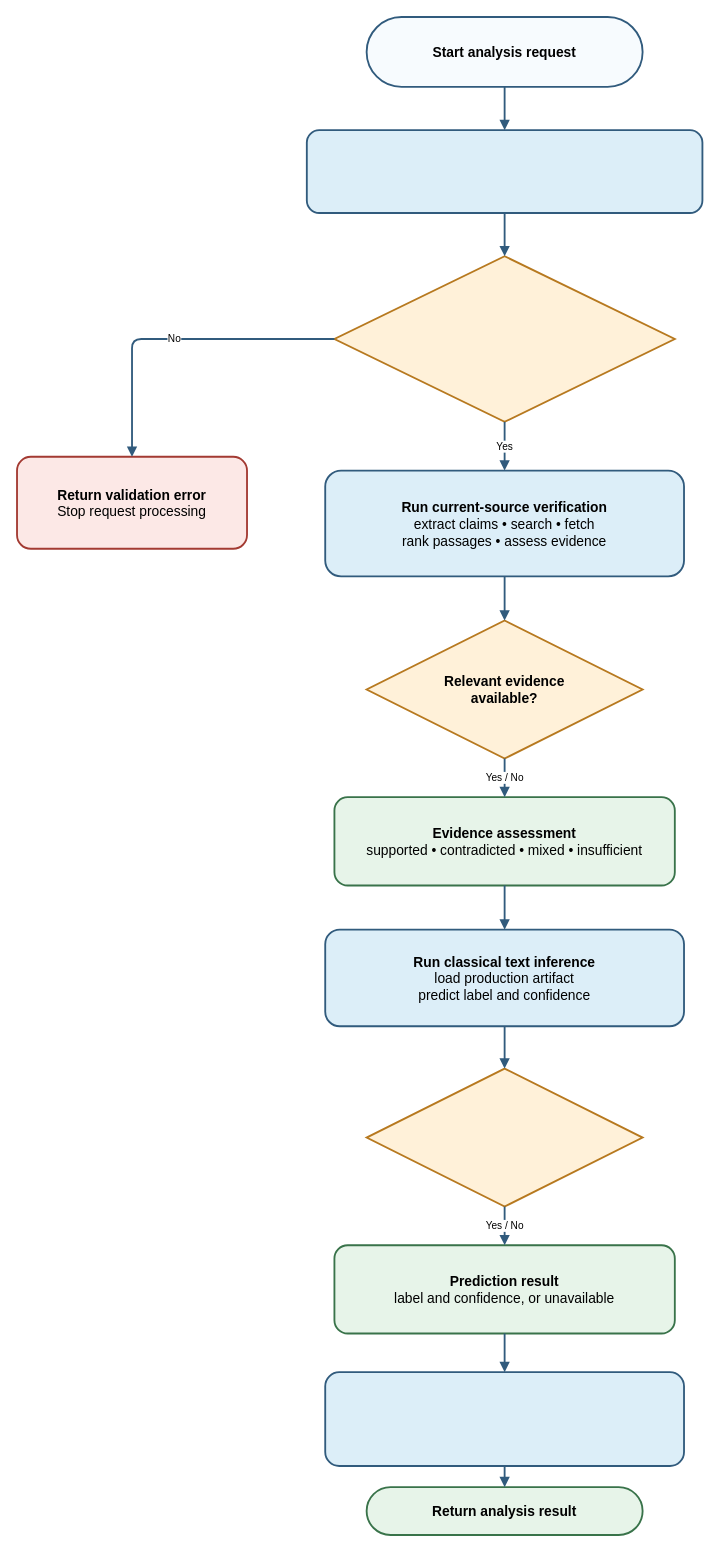
Image size: 719x1551. Some labels were removed from this diagram. Each missing label, with the centre of its shape:
"Assemble structured response prediction + claims + evidence + sources" belongs at point 504,1418.
"Input satisfies type and length constraints?" belongs at point 504,338.
"Model artifact available?" belongs at point 504,1137.
"Receive submitted article text POST /api/v1/analyze" belongs at point 504,171.
